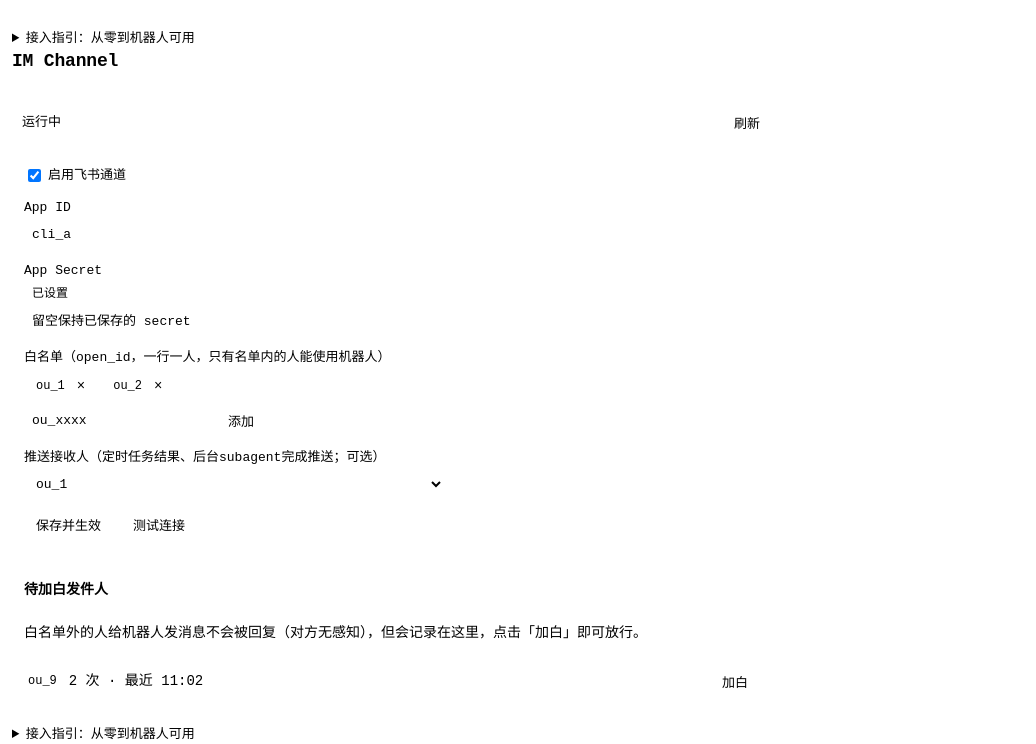
Test: ChannelView › tests the connection with the draft credentials and shows the verdict
(page scrolled)
Click the button with test id "channel-test" at [159, 524], box [121, 508, 197, 540]
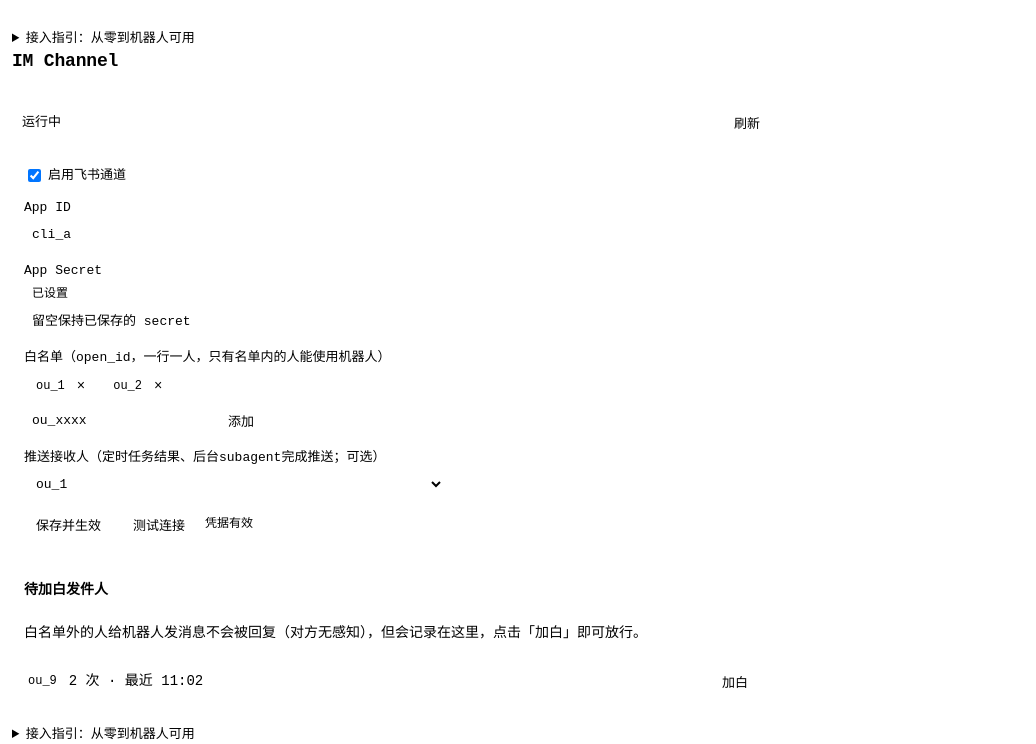
Check: the text with test id "channel-test-result" reads "凭据有效", box [205, 517, 253, 531]
